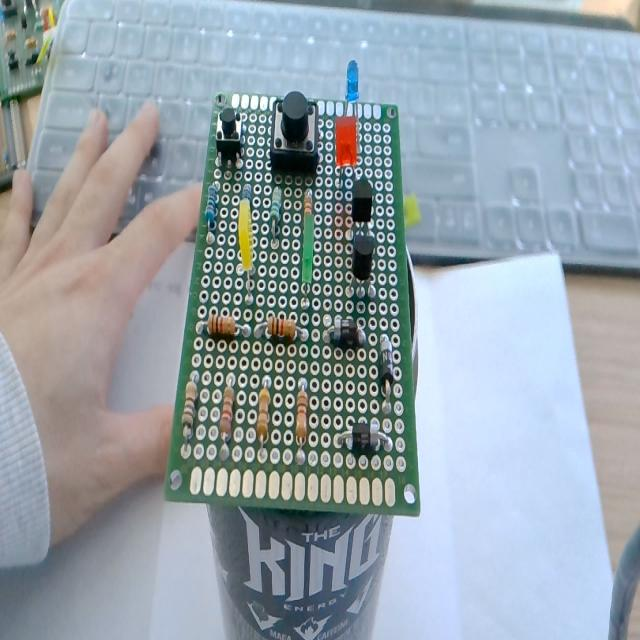diode: (339, 423, 392, 454), (324, 317, 366, 349), (379, 334, 394, 392)
led: (238, 193, 255, 294), (334, 115, 358, 168), (344, 58, 359, 120), (302, 211, 314, 287)
resistor: (255, 314, 307, 342), (201, 310, 249, 338), (256, 378, 271, 454), (295, 380, 309, 461), (182, 378, 197, 434), (220, 384, 234, 440), (204, 182, 218, 233), (270, 185, 282, 237), (304, 190, 312, 217)
switch: (269, 93, 318, 177), (215, 106, 245, 166)
transistor: (350, 234, 374, 300), (352, 178, 372, 224)
